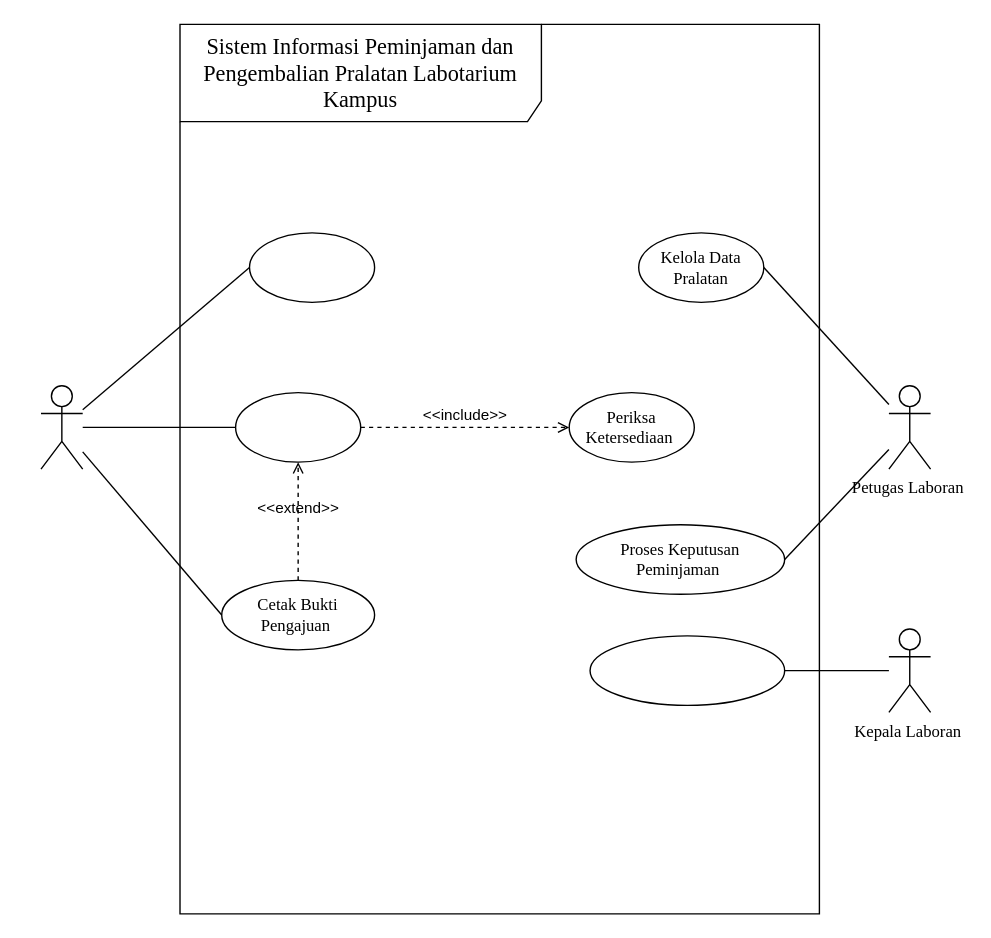
This 991x938 diagram has some shape labels left out. Here are the shapes that lost their labels. From the top down, the centre of each, then its label:
At [311,266]: "Lihar Ketersediaan Peralatan".
At [61,426]: "Mahasiswa".
At [297,426]: "Ajukan peminjaman".
At [687,670]: "Lihat Laporan Peminjaman".
